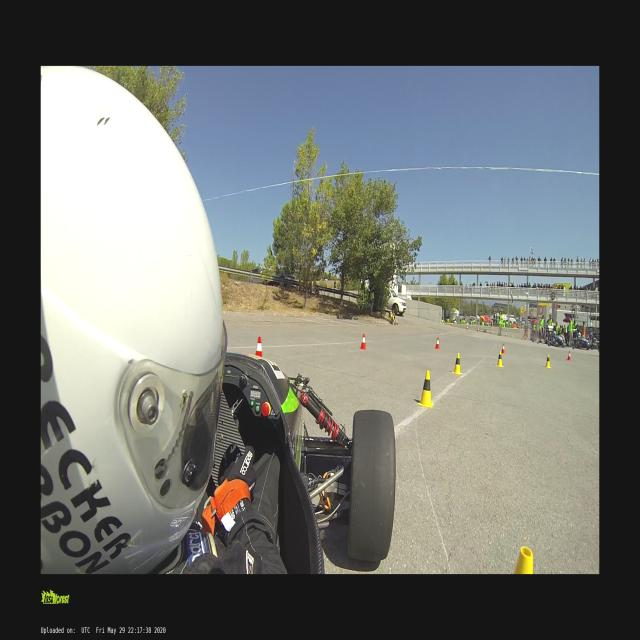orange_cone: (256, 337, 262, 357), (361, 333, 366, 350), (434, 338, 440, 350), (566, 351, 571, 361), (502, 343, 506, 355)
yellow_cone: (417, 369, 434, 408), (451, 352, 462, 376), (495, 350, 503, 368), (544, 354, 550, 369)
